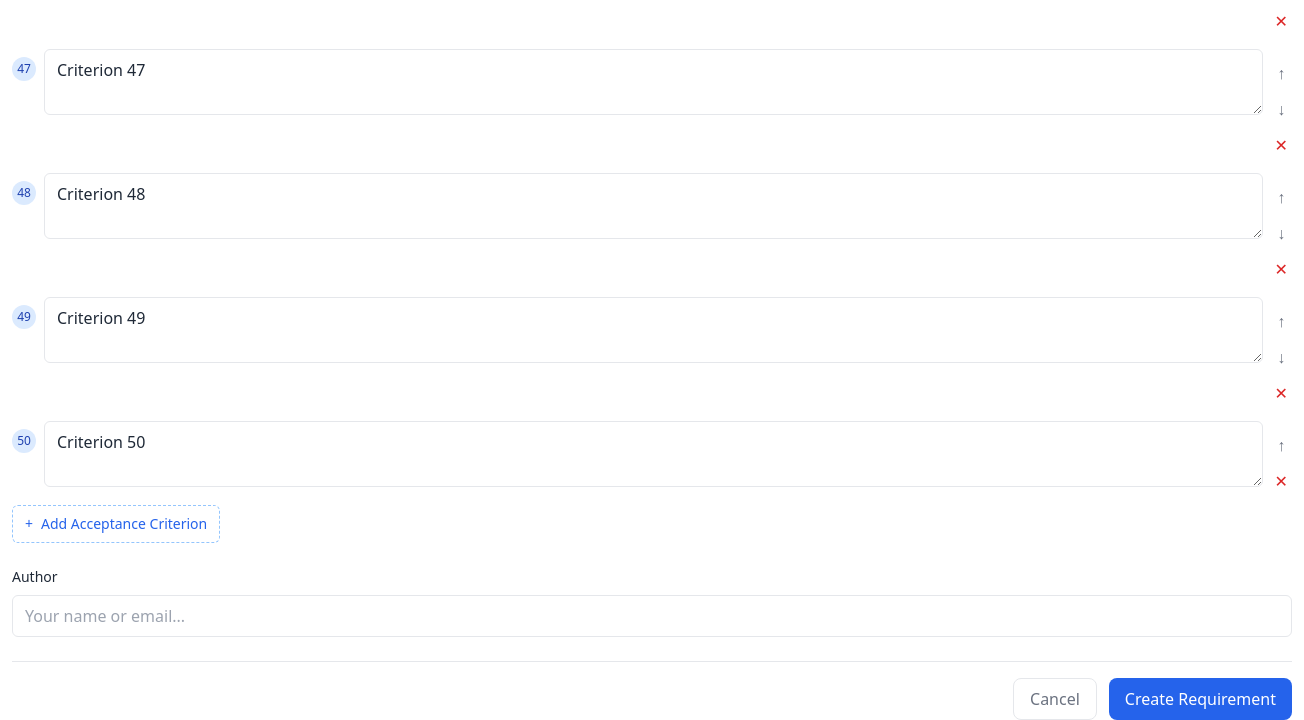
Test: RequirementForm - Acceptance Criteria Management › Performance and Edge Cases › should handle large numbers of criteria efficiently
This screenshot has width=1304, height=720.
(page scrolled)
// Should be able to add more
Click the button titled "Add acceptance criterion".
click(116, 524)  # box 12,505 -> 220,543
(page scrolled)
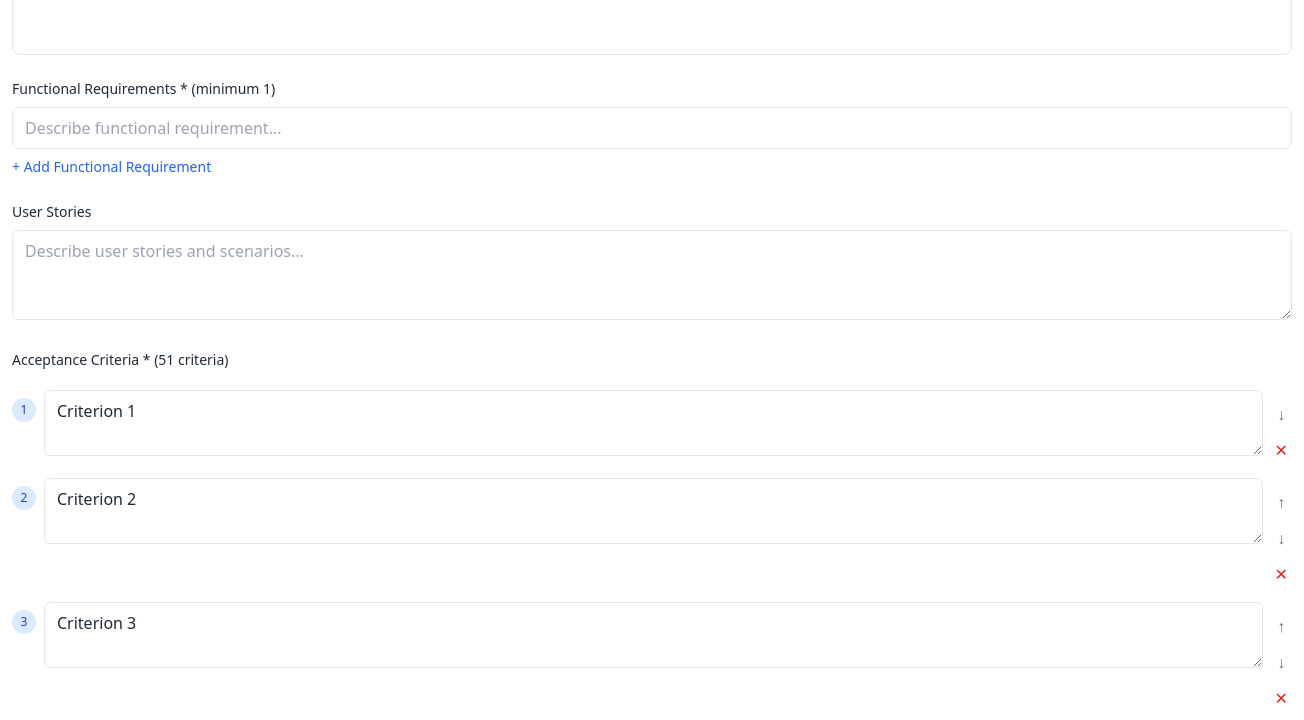
Now the text "Acceptance Criteria * (51 criteria)" is shown, box 12,350 -> 228,370
